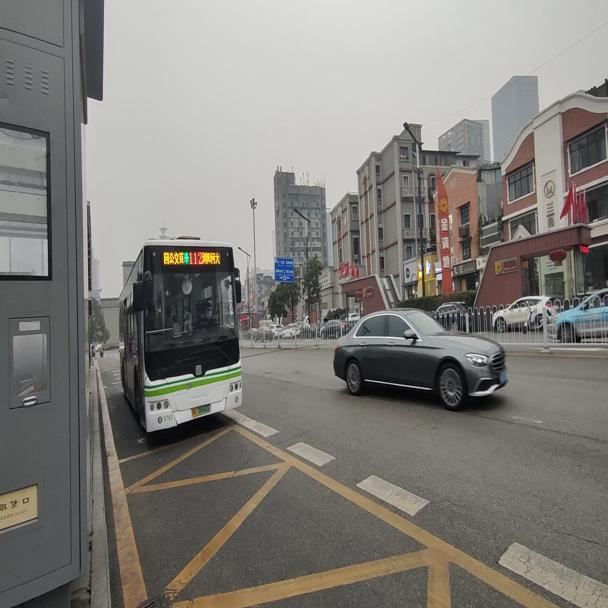bus: (116, 235, 243, 441)
screen: (187, 247, 202, 266)
